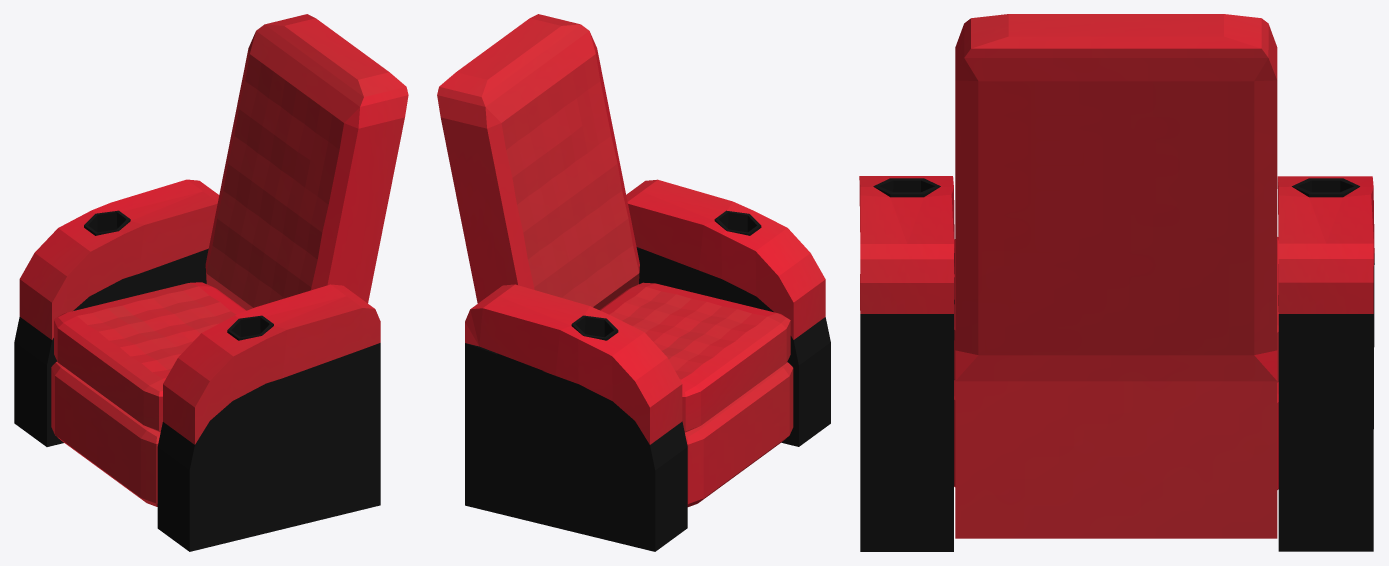
File: cinemaChair.fbx
The picture shows the model from 3 angles, left to right: view 1: azimuth 30°, elevation 25°; view 2: azimuth 150°, elevation 25°; view 3: azimuth 270°, elevation 25°; orthographic projection. The views are drawn at different scales.
Parts seen in each view (by area): view 1: poltrona; view 2: poltrona; view 3: poltrona.
Boxes of the visible parts, x1,y1,x2,y2 form: poltrona: (14, 14, 408, 551); poltrona: (437, 14, 830, 551); poltrona: (859, 14, 1374, 551).
Size of the model in its own units: 96.82 by 137 by 114.
